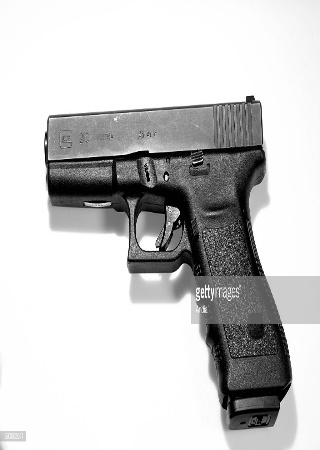handgun: (42, 92, 294, 438)
